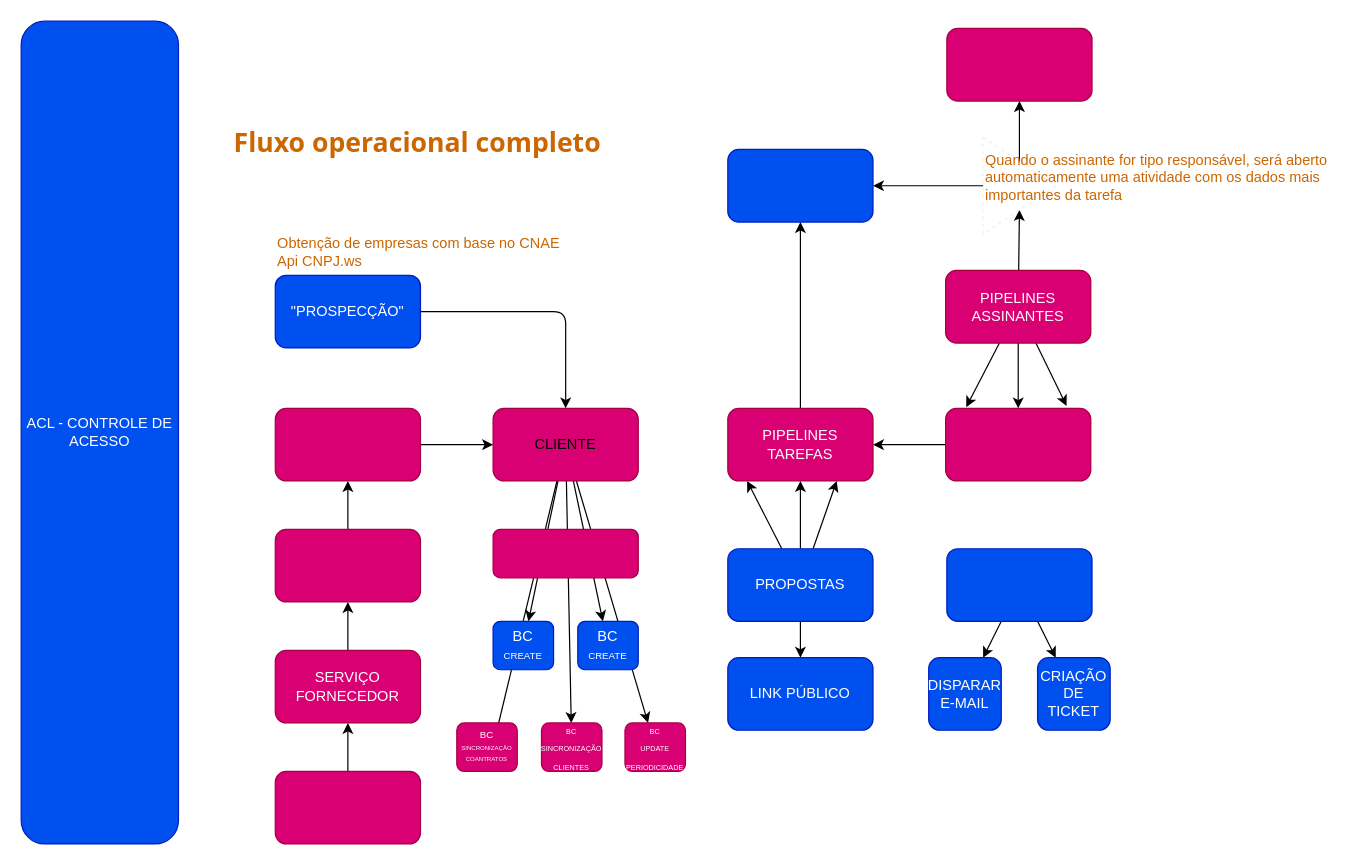
Some shapes in this 1354 by 865 pixel diagram are drawn without their labels. Each missing label, with the centre of its shape:
"ASSINANTE TIPO" belongs at point 1019,64.
"AUTENTICAÇÃO" belongs at point 565,553.
"AUTOMAÇÃO" belongs at point 1019,584.
"FORNECEDOR" belongs at point 347,807.
"MINHAS TAREFAS" belongs at point 800,185.
"PIPELINES" belongs at point 1017,444.
"SERVIÇO" belongs at point 347,565.
"SERVIÇO CLIENTE" belongs at point 347,444.
